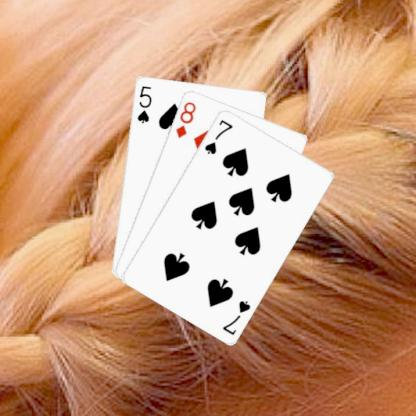5S: (134, 82, 153, 124)
7S: (202, 116, 234, 156), (220, 298, 252, 336)
8D: (172, 99, 198, 139)
